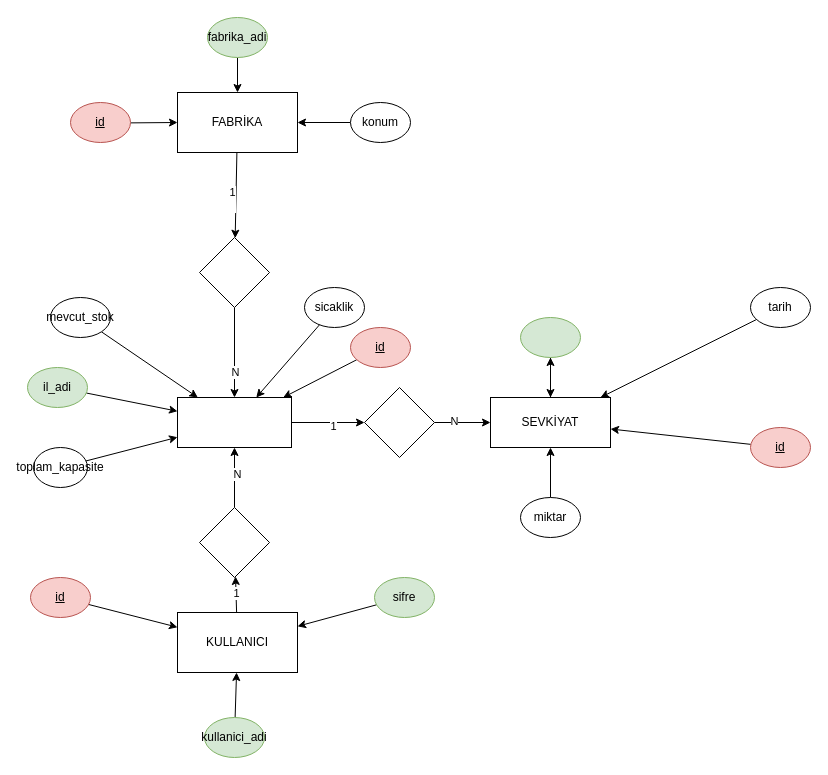
This 828x775 diagram has some shape labels left out. The shapes that lost their labels are listed below. From the top down, each one's centre as x and y in pixels, then its label:
At point 234,272: "GÖNDERİR".
At point 550,337: "depo_id".
At point 234,422: "DEPO".
At point 399,422: "ALIR".
At point 234,542: "YÖNETİR".
